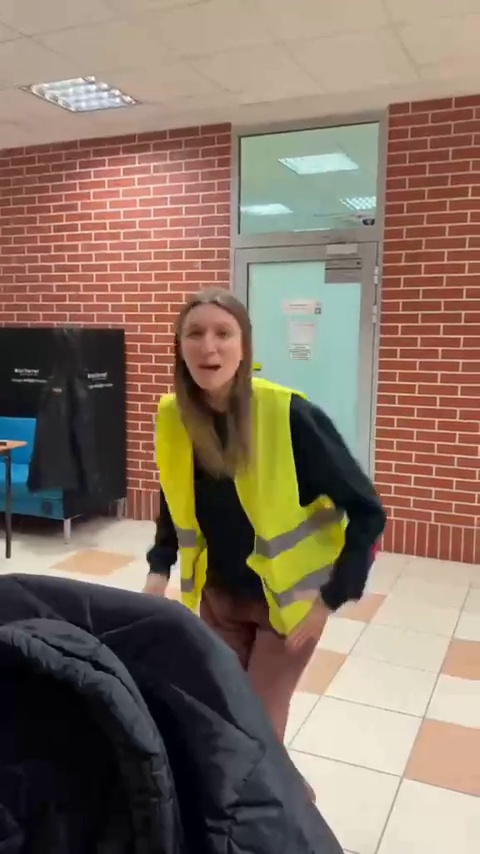vest: (160, 290, 381, 722)
